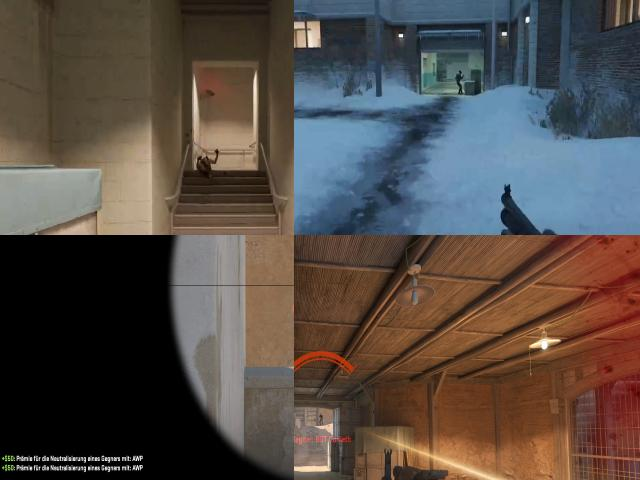CT: (456, 70, 464, 90), (320, 412, 324, 425)
CT-Head: (458, 70, 463, 75), (320, 413, 321, 415)
Dead: (194, 145, 219, 177)
